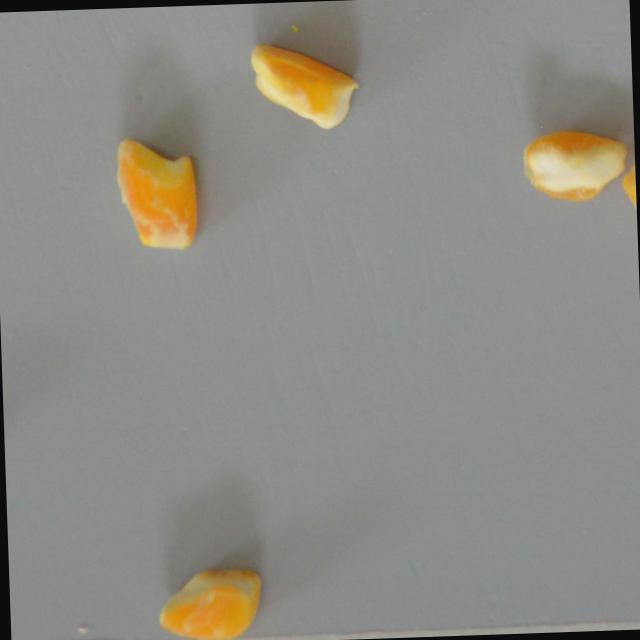dañado: (112, 133, 201, 253), (618, 135, 638, 261)
pelicula: (241, 36, 355, 132), (145, 558, 264, 640), (518, 124, 630, 202)
